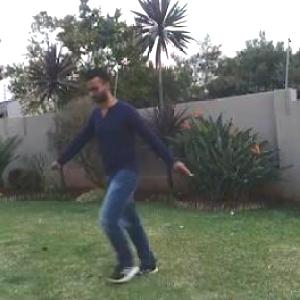land: (50, 63, 191, 284)
